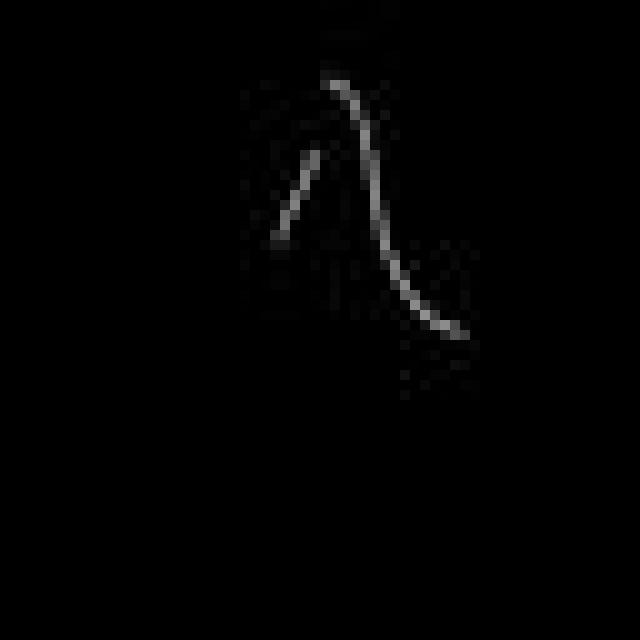8 -eight-: (259, 70, 464, 357)
